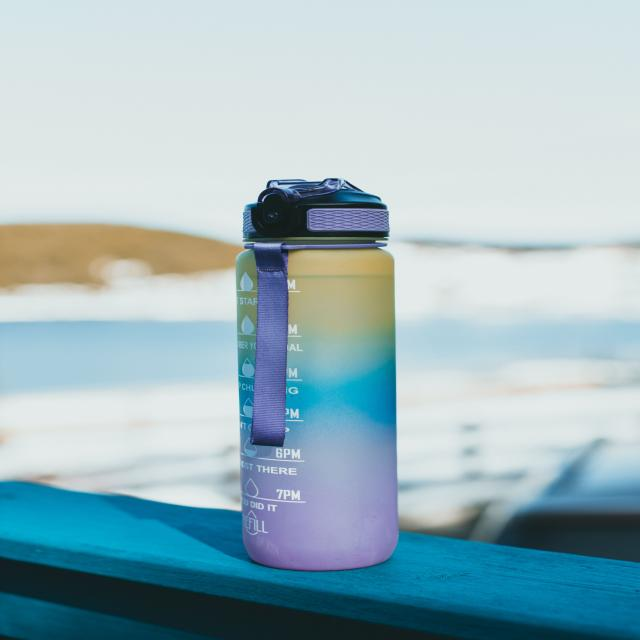Bottle: (237, 179, 398, 570)
